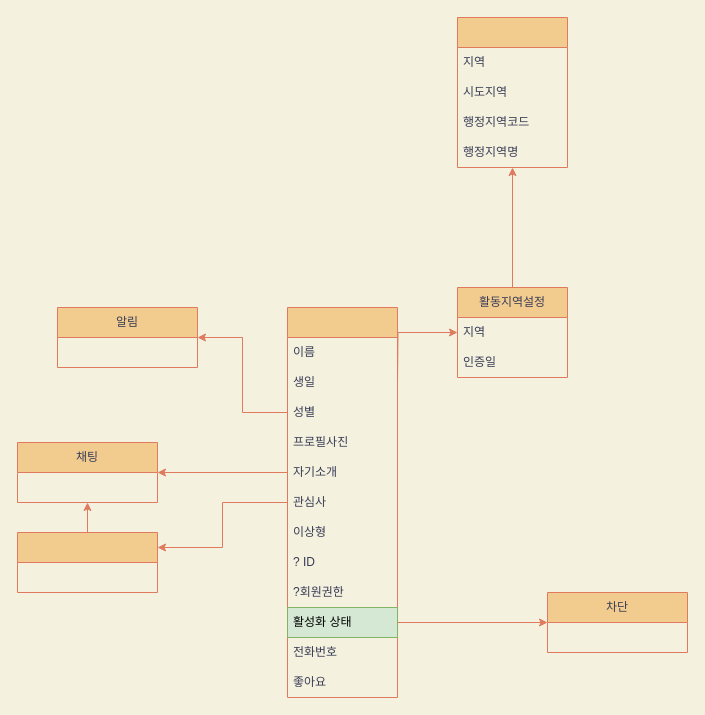
This 705x715 diagram has some shape labels left out. Here are the shapes that lost their labels. From the top down, the box of each, then its label:
(456, 16, 568, 168): 시군구 행정지역
(286, 306, 398, 698): 회원
(16, 532, 158, 592): 메시지
